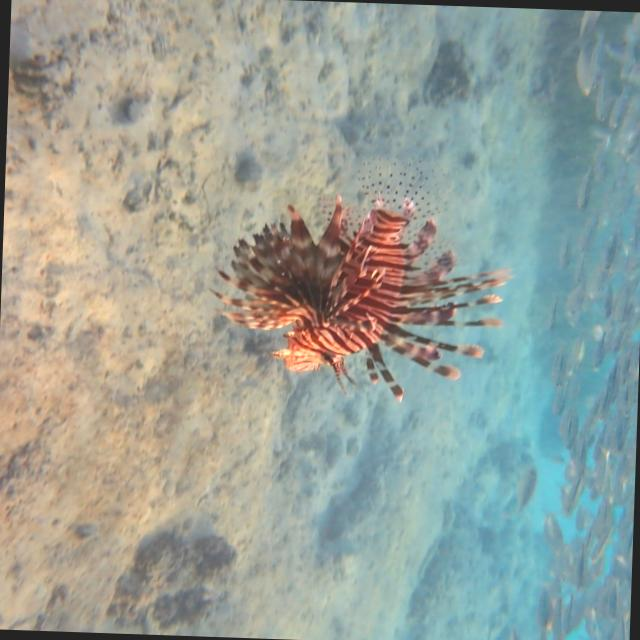Aslan Baligi: (205, 185, 517, 406)
